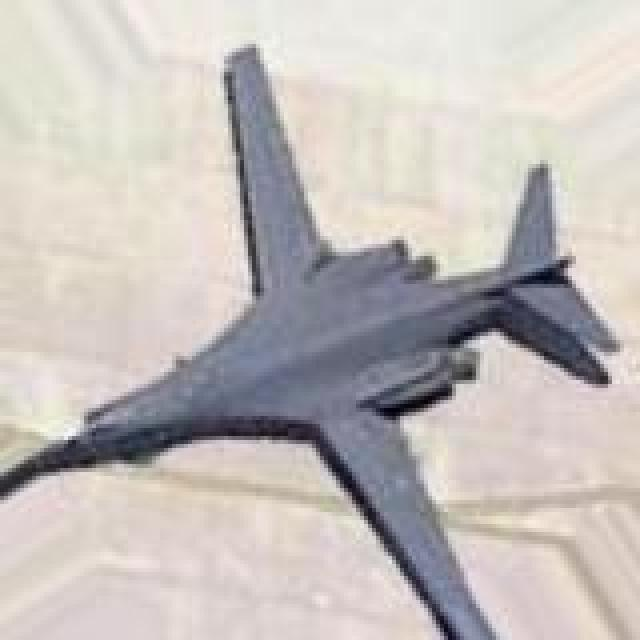B-1_TopDown: (0, 36, 620, 636)
